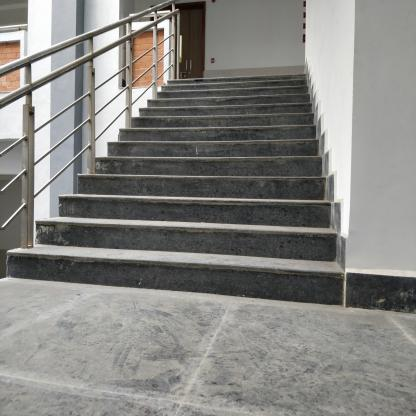stairs: (176, 75, 308, 307)
